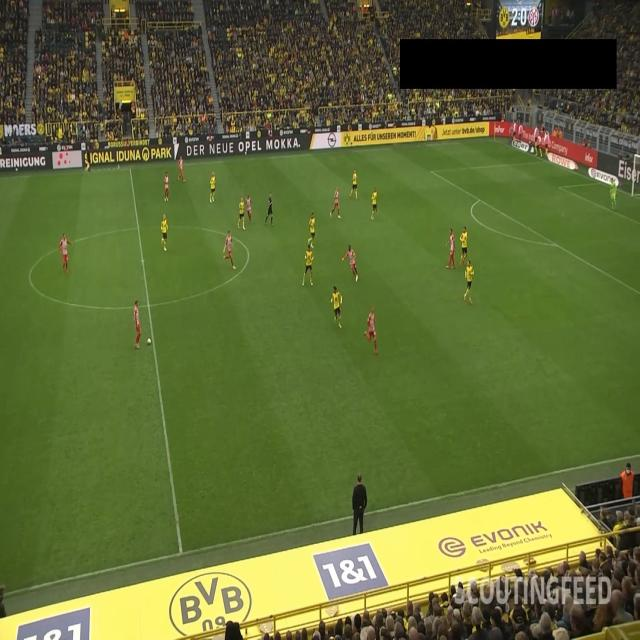ball: (146, 337, 152, 346)
